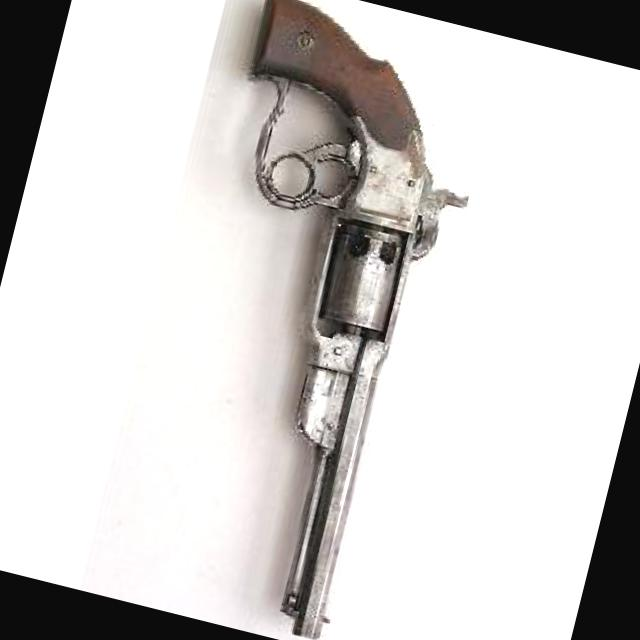handgun: (119, 0, 499, 639)
